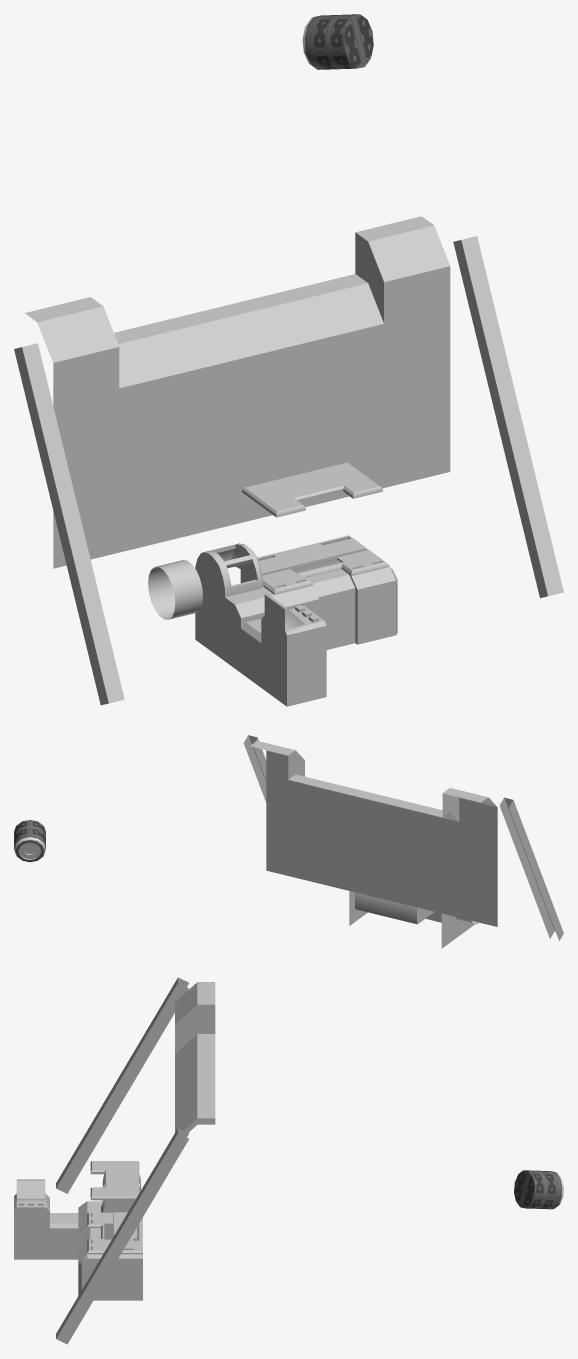
Rendered from ShootingRange_Essential.fbx.
The picture shows the model from 3 angles, top to bottom: view 1: azimuth 30°, elevation 25°; view 2: azimuth 150°, elevation 25°; view 3: azimuth 270°, elevation 25°; orthographic projection. The views are drawn at different scales.
Visible parts, largest first — view 1: SR_Gate, SR_GunTableBase, SR_GateChain, SR_GunTablePlate, SpotLighter, SR_GunTableWheel, SR_GunTableBase.001, SR_GunTableBase.002; view 2: SR_Gate, SR_GateChain, SR_GunTableBase, SpotLighter; view 3: SR_GunTableBase, SR_GateChain, SR_Gate, SR_GunTablePlate, SpotLighter, SR_GunTableBase.002.
Part boxes in pixels (x1,y1,x2,y2): SR_Gate: (25,216,450,568); SR_GunTableBase: (195,535,397,706); SR_GateChain: (14,236,563,705); SR_GunTablePlate: (242,462,382,517); SpotLighter: (302,14,373,69); SR_GunTableWheel: (148,560,202,619); SR_GunTableBase.001: (258,538,366,575); SR_GunTableBase.002: (262,550,381,587); SR_Gate: (250,741,497,926); SR_GateChain: (243,735,563,940); SR_GunTableBase: (349,891,474,948); SpotLighter: (14,820,45,862); SR_GunTableBase: (14,1179,142,1300); SR_GateChain: (56,977,188,1344); SR_Gate: (175,982,215,1132); SR_GunTablePlate: (90,1161,139,1200); SpotLighter: (514,1170,563,1209); SR_GunTableBase.002: (90,1213,113,1249).
Size of the model in its own units: 760 by 382 by 854.
